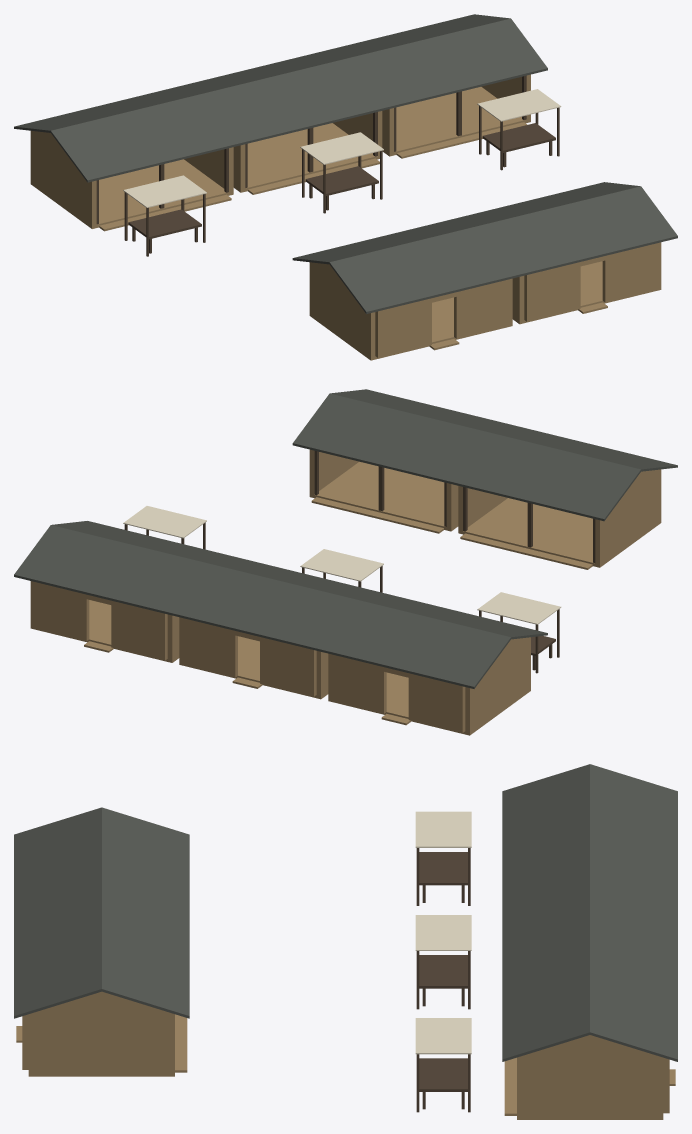
The model's file is market-LOD2.glb.
3 renders of one model, top to bottom at view 1: azimuth 30°, elevation 25°; view 2: azimuth 150°, elevation 25°; view 3: azimuth 270°, elevation 25°, orthographic. The views are drawn at different scales.
Parts seen in each view (by area): view 1: market-static_tile, market-static_earth, market-static_timber, market-static_paper; view 2: market-static_tile, market-static_earth, market-static_paper, market-static_timber; view 3: market-static_tile, market-static_earth, market-static_timber, market-static_paper.
Boxes of the visible parts, x1,y1,x2,y2 form: market-static_tile: (14, 14, 677, 313); market-static_earth: (30, 74, 661, 360); market-static_timber: (96, 76, 559, 256); market-static_paper: (123, 89, 561, 207); market-static_tile: (14, 389, 677, 688); market-static_earth: (30, 449, 661, 735); market-static_paper: (123, 506, 561, 624); market-static_timber: (124, 450, 595, 673); market-static_tile: (14, 764, 677, 1061); market-static_earth: (16, 991, 675, 1119); market-static_timber: (416, 848, 470, 1112); market-static_paper: (415, 811, 471, 1054).
Bounding box in the file's own units: 26 × 4.25 × 27.2.
